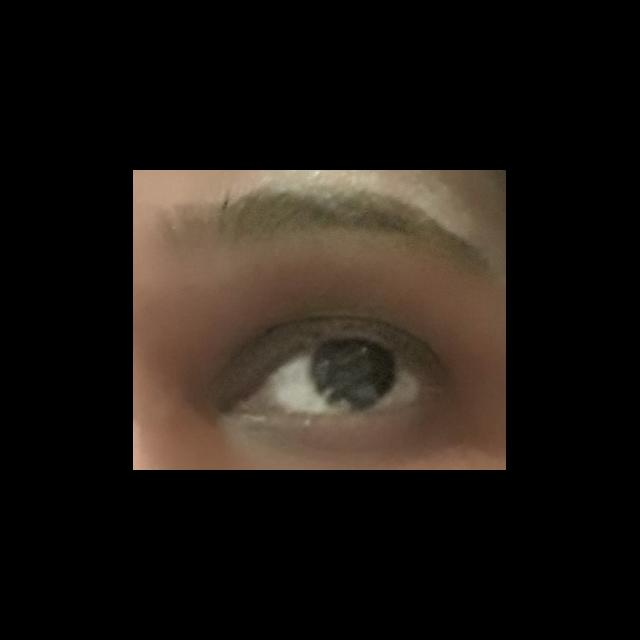eye: (243, 341, 422, 410)
iris: (313, 342, 399, 410)
